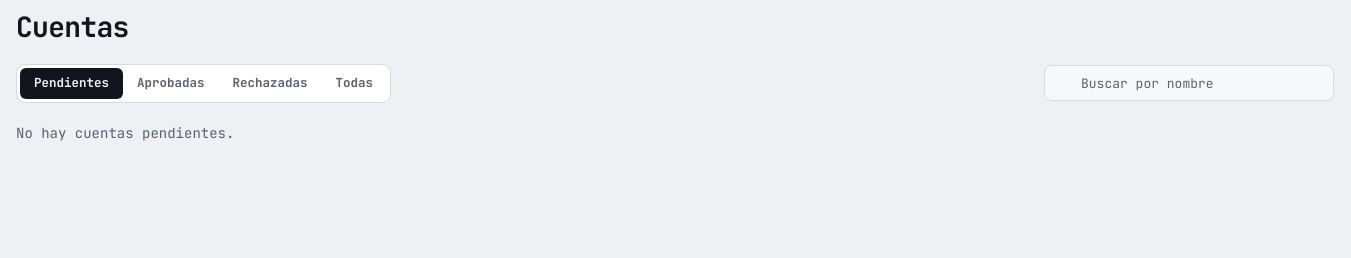
Test case: PaginaAdministracion › en aprobadas deja desactivar y en rechazadas reactivar
Expected: the text "No hay cuentas pendientes." is shown, [16,124,234,142]
Click the button "Aprobadas" at (171, 83), box [123,68,218,99]
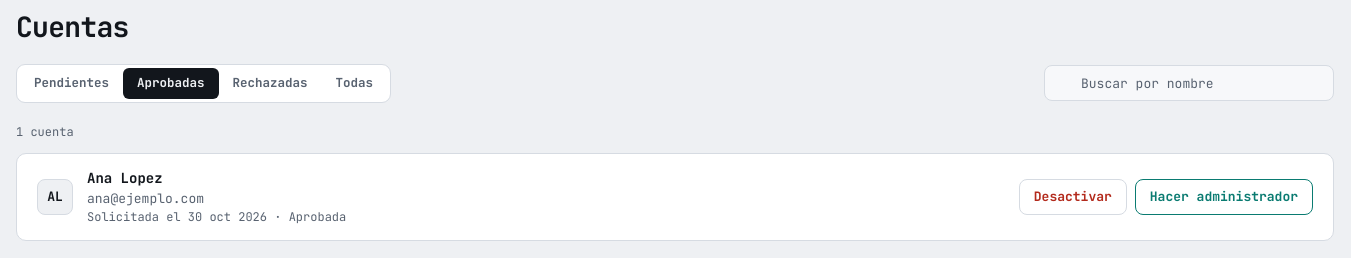
Result: the text "Ana Lopez" is shown at [87,168,163,189]
Result: the button with aria-label "Desactivar a Ana Lopez" is shown at [1019,179,1127,215]
Click the button "Rechazadas" at (270, 83), box [218,68,322,99]
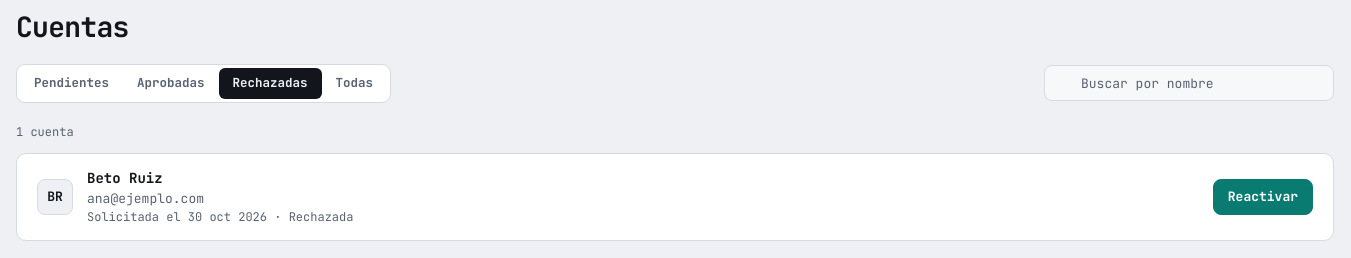
Result: the text "Beto Ruiz" is shown at [87,168,163,189]
Result: the button with aria-label "Reactivar a Beto Ruiz" is shown at [1213,179,1313,215]
